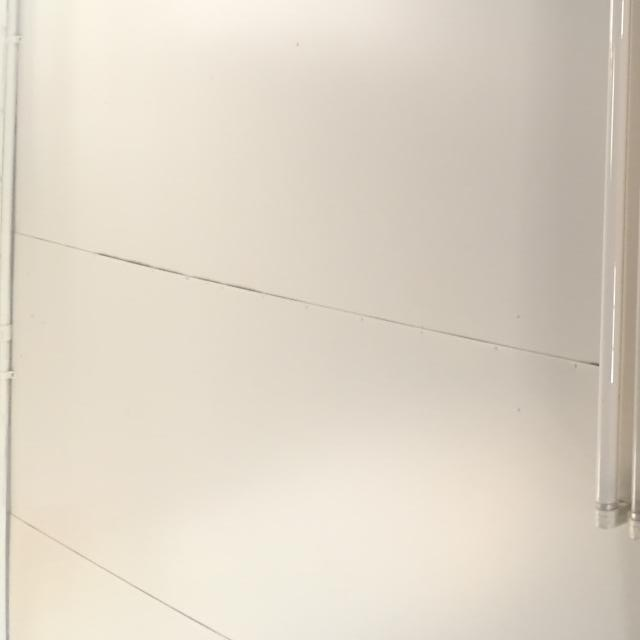fluorescent tube: (547, 0, 640, 571)
